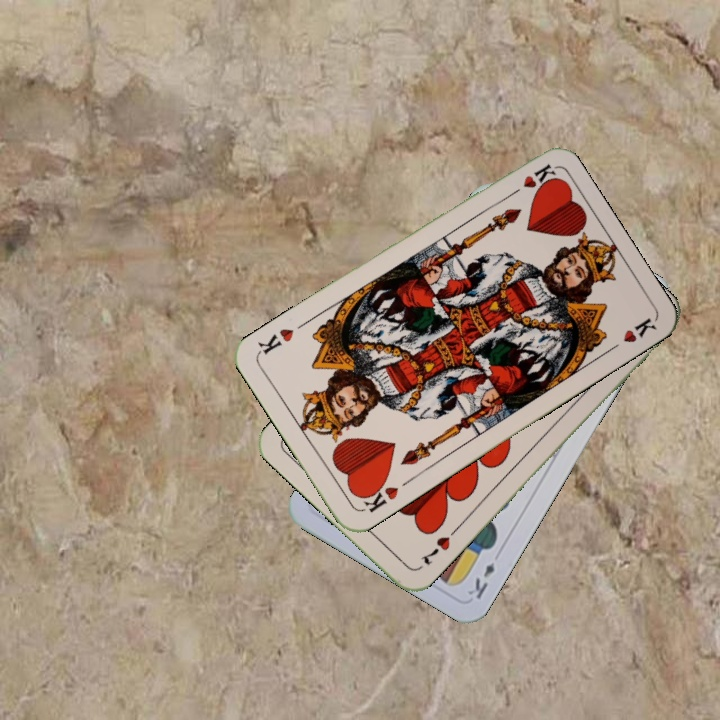EK: (463, 558, 498, 602)
H7: (416, 524, 460, 568)
HK: (502, 160, 557, 202), (355, 477, 401, 515)
